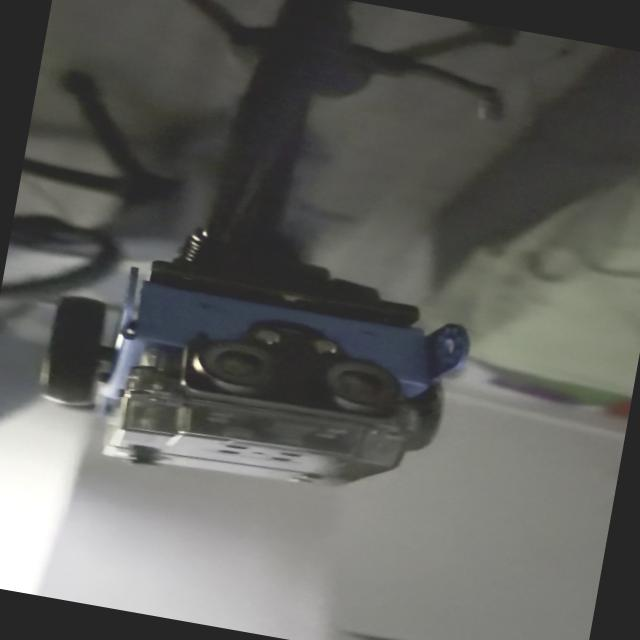mbot-detection: (16, 232, 485, 524)
